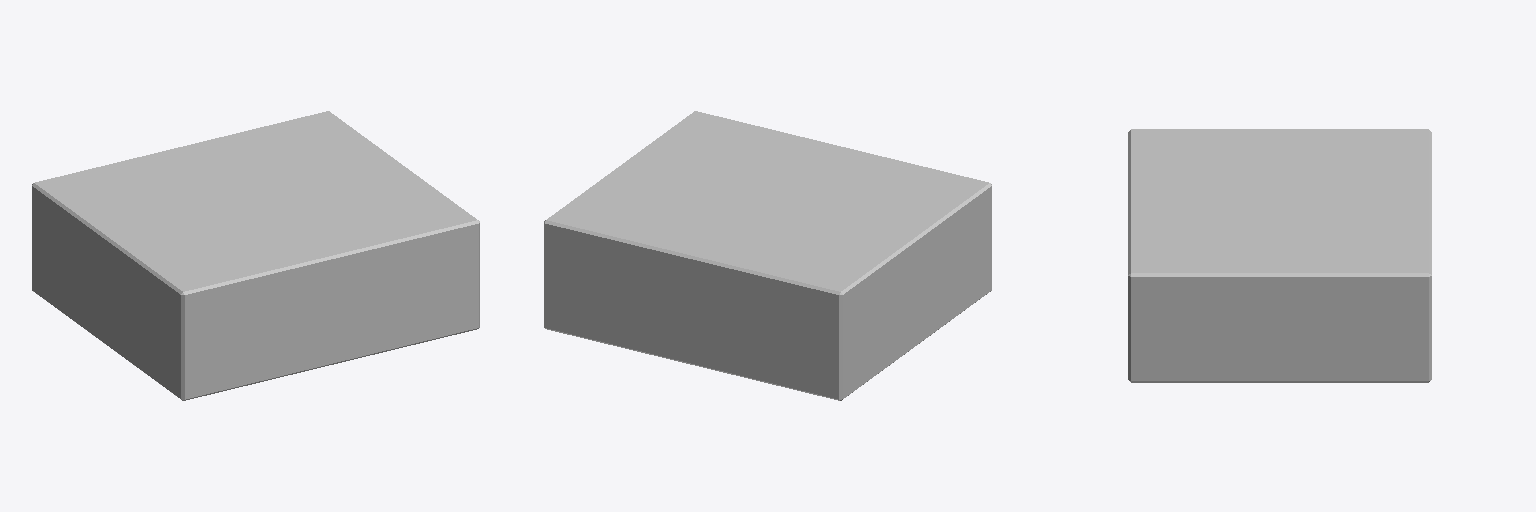
The model's file is Input_prediction_mesh.obj.
3 renders of one model, left to right at view 1: azimuth 30°, elevation 25°; view 2: azimuth 150°, elevation 25°; view 3: azimuth 270°, elevation 25°, orthographic.
Visible parts, largest first — view 1: mat1, mat4, mat2, mat0, mat6; view 2: mat1, mat4, mat2, mat0, mat6; view 3: mat4, mat1, mat0, mat2, mat6.
Boxes of the visible parts, x1=… form: mat1: x1=32, y1=111, x2=479, y2=393; mat4: x1=39, y1=112, x2=471, y2=295; mat2: x1=74, y1=229, x2=364, y2=345; mat0: x1=32, y1=283, x2=479, y2=400; mat6: x1=147, y1=164, x2=314, y2=215; mat1: x1=544, y1=111, x2=991, y2=394; mat4: x1=546, y1=114, x2=981, y2=295; mat2: x1=608, y1=143, x2=944, y2=363; mat0: x1=544, y1=283, x2=991, y2=400; mat6: x1=679, y1=178, x2=819, y2=242; mat4: x1=1128, y1=132, x2=1431, y2=375; mat1: x1=1128, y1=129, x2=1431, y2=375; mat0: x1=1128, y1=286, x2=1431, y2=382; mat2: x1=1136, y1=134, x2=1392, y2=347; mat6: x1=1230, y1=163, x2=1376, y2=232.
Bounding box in the file's own units: 5.28 × 1.84 × 4.64.